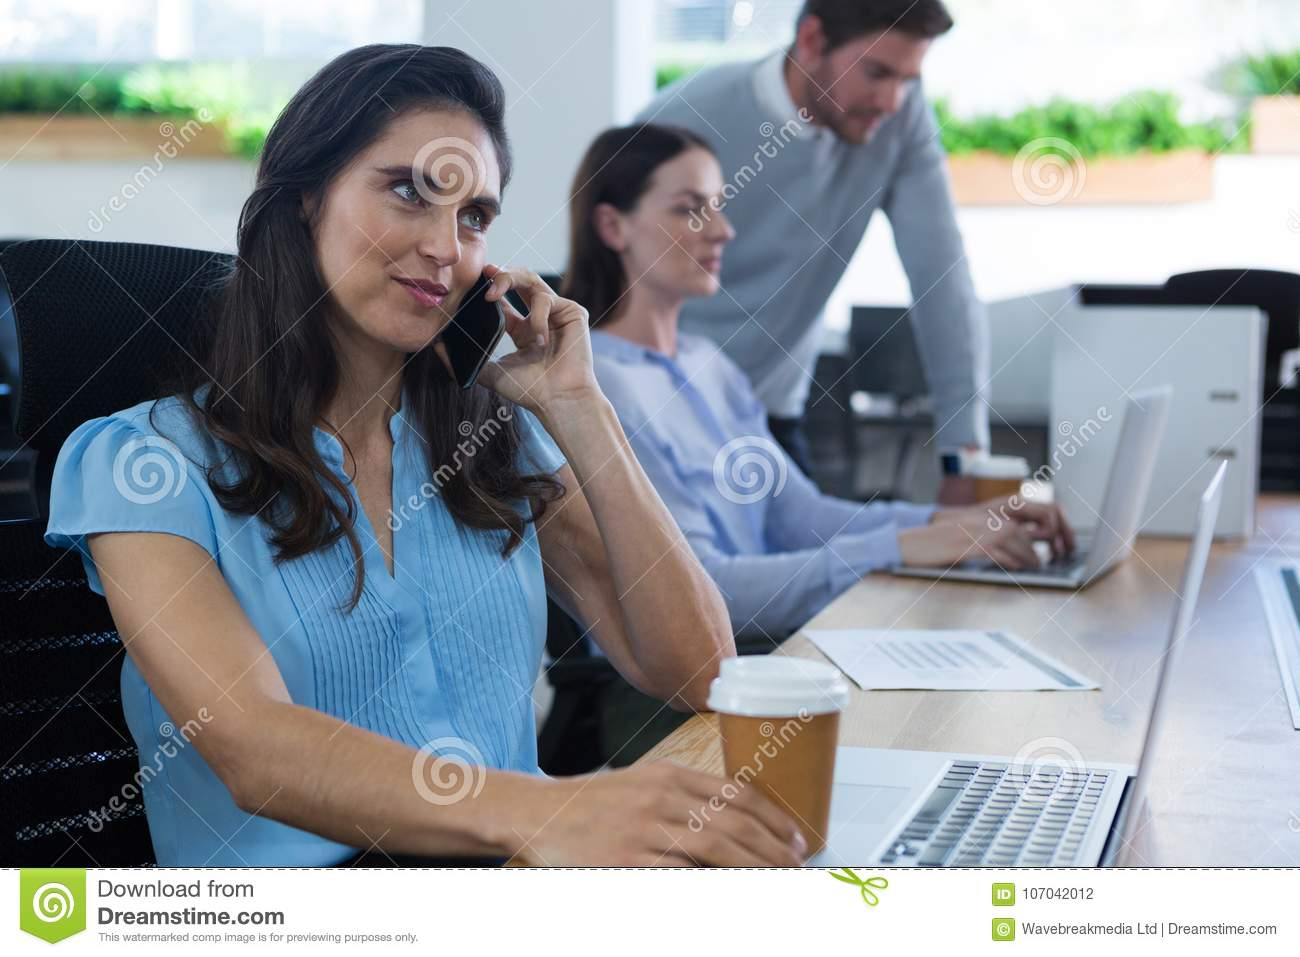phone: (445, 271, 510, 395)
talk: (347, 150, 602, 438)
